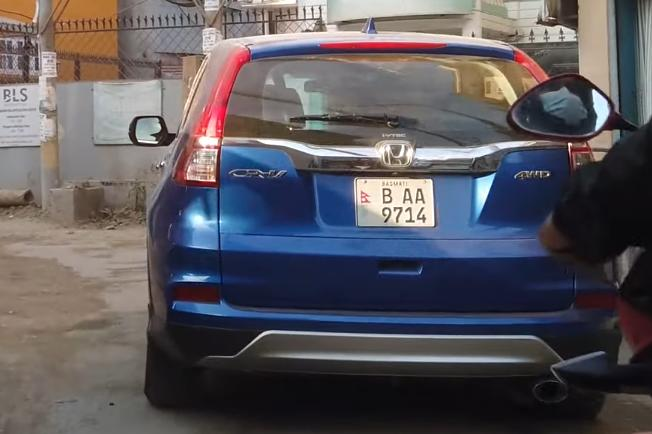car: (136, 19, 624, 417)
